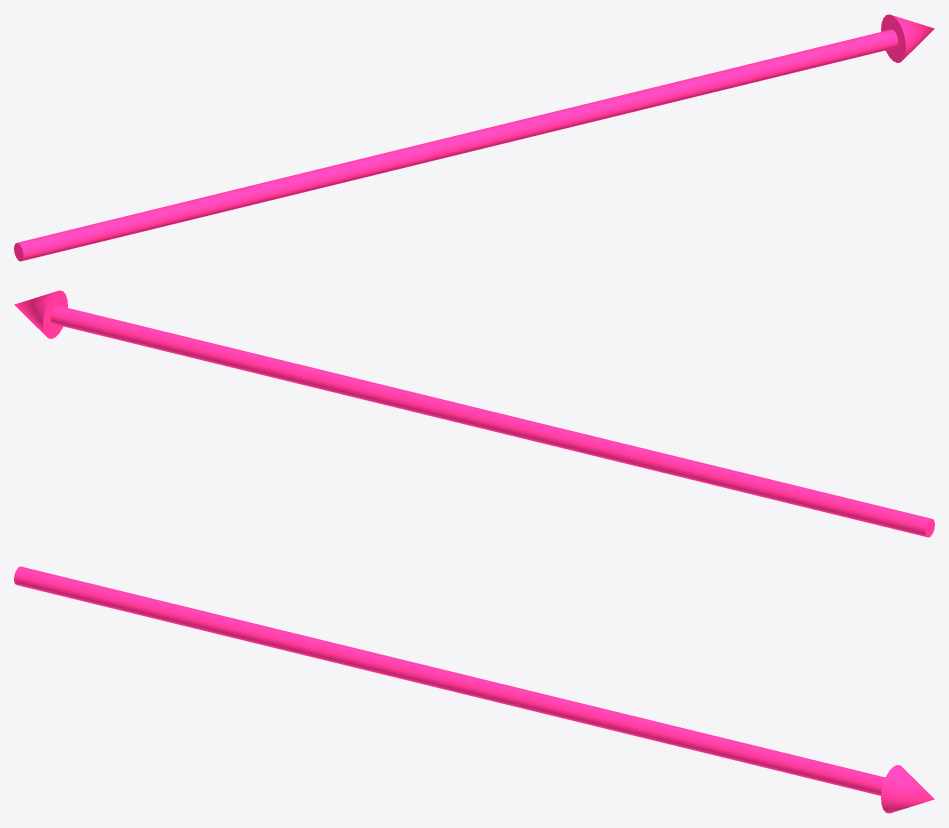
The model's file is monorail_hoist_flow.glb.
3 views of the same model, one above another, from view 1: azimuth 30°, elevation 25°; view 2: azimuth 150°, elevation 25°; view 3: azimuth 330°, elevation 25° (orthographic).
Parts seen in each view (by area): view 1: travel; view 2: travel; view 3: travel.
Boxes of the visible parts, x1,y1,x2,y2 form: travel: (14, 14, 934, 261); travel: (14, 290, 934, 537); travel: (14, 566, 934, 813).
Bounding box in the file's own units: 1.32 × 0.0624 × 0.0624.
